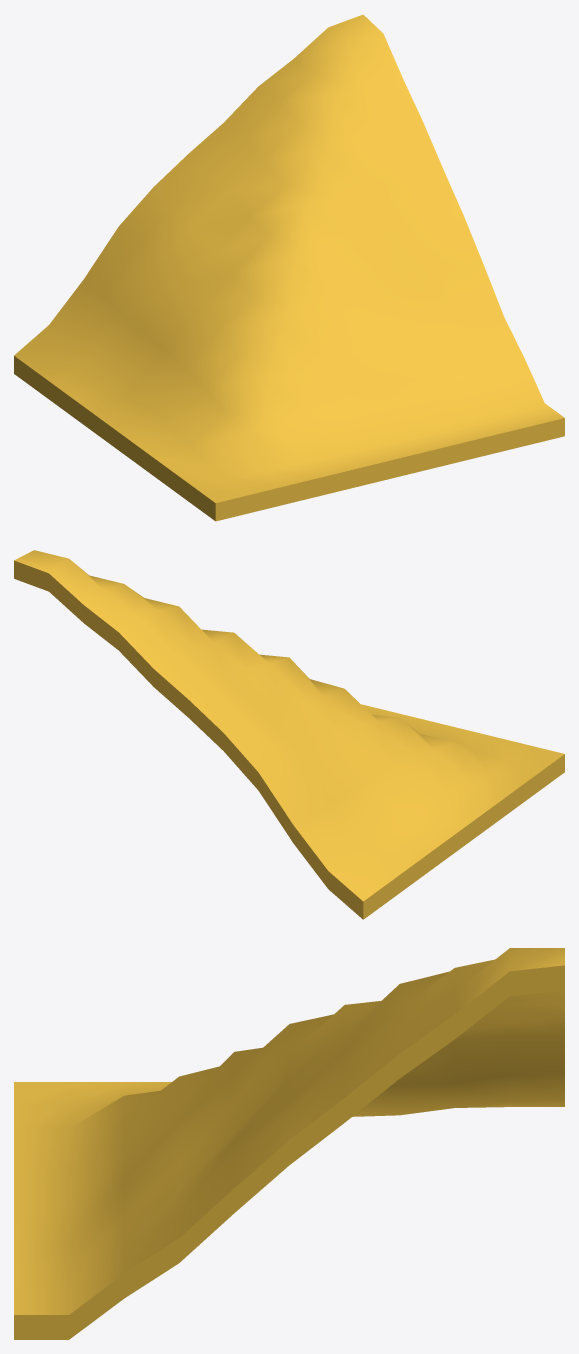
File: Steil - Mitte - Ecke b - a.fbx
3 renders of one model, top to bottom at view 1: azimuth 30°, elevation 25°; view 2: azimuth 150°, elevation 25°; view 3: azimuth 270°, elevation 25°, orthographic. The views are drawn at different scales.
Parts seen in each view (by area): view 1: Steil - Mitte - Ecke b - a; view 2: Steil - Mitte - Ecke b - a; view 3: Steil - Mitte - Ecke b - a.
Boxes of the visible parts, x1,y1,x2,y2 form: Steil - Mitte - Ecke b - a: [14, 14, 564, 521]; Steil - Mitte - Ecke b - a: [14, 550, 564, 919]; Steil - Mitte - Ecke b - a: [14, 948, 564, 1339].
Size of the model in its own units: 394 by 295 by 394.
